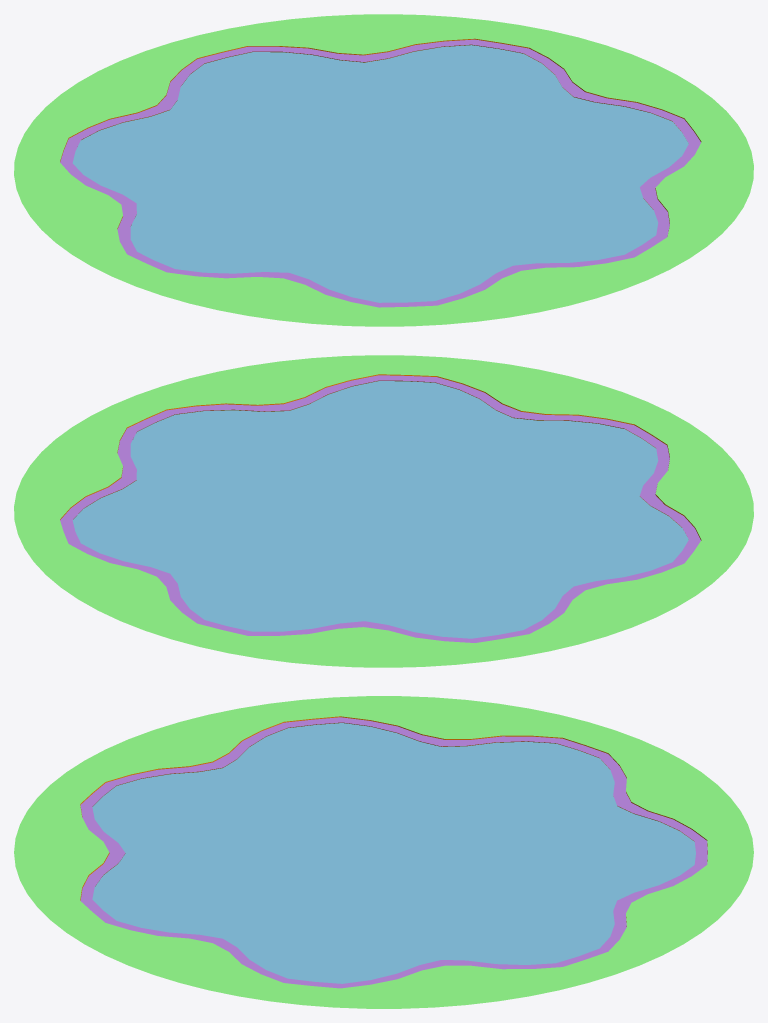
The model's file is ParadiseFloor.fbx.
The picture shows the model from 3 angles, top to bottom: view 1: azimuth 30°, elevation 25°; view 2: azimuth 150°, elevation 25°; view 3: azimuth 270°, elevation 25°; orthographic projection.
Visible parts, largest first — view 1: ParadiseFloor.001; view 2: ParadiseFloor.001; view 3: ParadiseFloor.001.
Part boxes in pixels (left/top/right/bottom): ParadiseFloor.001: left=14, top=14, right=753, bottom=326; ParadiseFloor.001: left=14, top=355, right=753, bottom=667; ParadiseFloor.001: left=14, top=696, right=753, bottom=1008.
Size of the model in its own units: 14501 by 29.92 by 14500.
